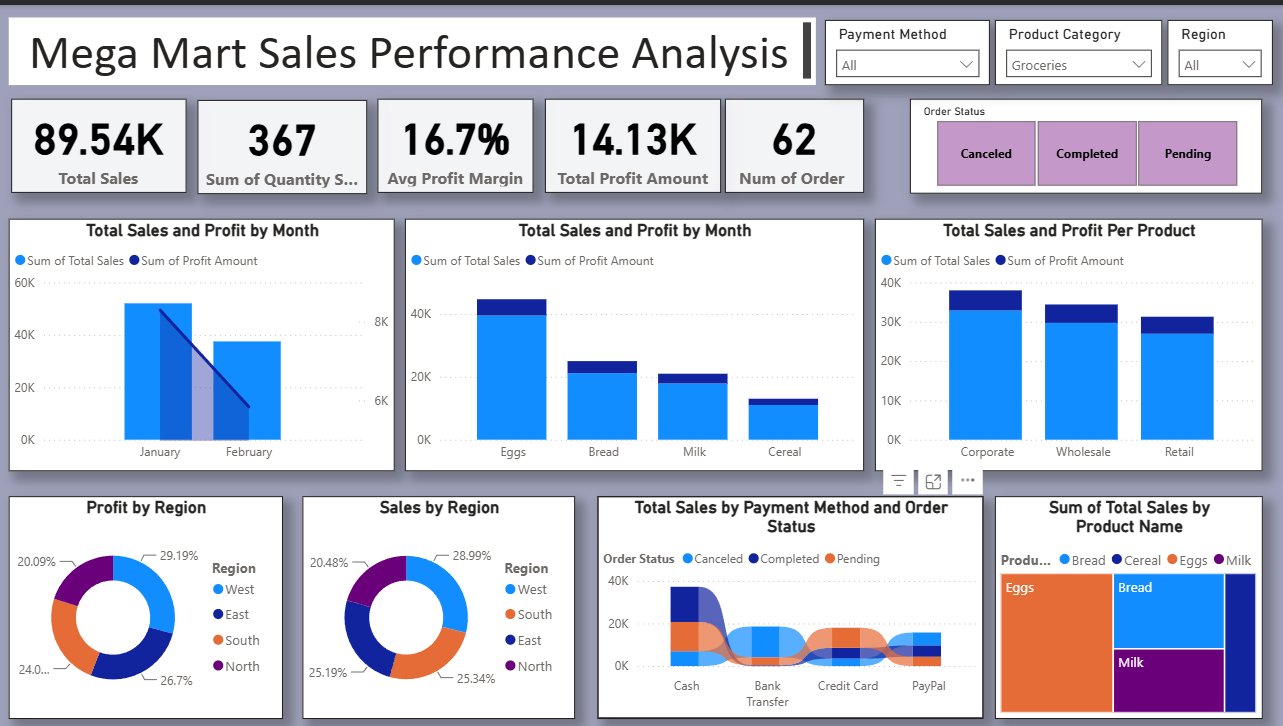

The dashboard page shown, as its layout file describes it:
{"tool":"powerbi","page":{"name":"Page 1","canvas":[1280,720],"ordinal":0},"visuals":[{"type":"textbox","box":[8.7,12.4,803.6,67.2],"z":0},{"type":"card","fields":{"Values":["Sum(Sales.Total Sales)"]},"box":[10.7,93.8,174.2,93.3],"z":1000},{"type":"card","fields":{"Values":["Sum(Sales.Quantity Sold)"]},"box":[196,95,169.2,93.3],"z":2000},{"type":"card","fields":{"Values":["Sales.Avg Profit Margin"]},"box":[375.2,93.8,155.5,93.3],"z":3000},{"type":"card","fields":{"Values":["Sum(Sales.Profit Amount)"]},"box":[541.9,93.8,175.4,93.3],"z":4000},{"type":"card","fields":{"Values":["CountNonNull(Sales.Order ID)"]},"box":[721,93.8,138.1,93.3],"z":5000},{"type":"lineClusteredColumnComboChart","title":" Total Sales and Profit by Month","fields":{"Category":["Sales.Order Date.Variation.Date Hierarchy.Month"],"Y":["Sum(Sales.Total Sales)"],"Y2":["Sum(Sales.Profit Amount)"]},"box":[8.7,212.7,384.4,251.3],"z":6000},{"type":"columnChart","title":" Total Sales and Profit by Month","fields":{"Category":["Sales.Product Name"],"Y":["Sum(Sales.Total Sales)","Sum(Sales.Profit Amount)"]},"box":[403,212.7,456.5,251.3],"z":7000},{"type":"donutChart","title":"Profit by Region","fields":{"Category":["Sales.Region"],"Y":["Sum(Sales.Profit Amount)"]},"box":[8.7,488.9,272.4,221.4],"z":8000},{"type":"donutChart","title":" Sales by Region","fields":{"Category":["Sales.Region"],"Y":["Sum(Sales.Total Sales)"]},"box":[301,488.9,271.2,221.4],"z":9000},{"type":"columnChart","title":" Total Sales and Profit Per Product","fields":{"Category":["Sales.Customer Segment"],"Y":["Sum(Sales.Total Sales)","Sum(Sales.Profit Amount)"]},"box":[870.8,212.7,385.6,251.3],"z":10000},{"type":"slicer","fields":{"Values":["Sales.Order Status"]},"box":[905.6,93.3,350.8,94.5],"z":11000},{"type":"ribbonChart","title":"Total Sales by Payment Method and Order Status","fields":{"Category":["Sales.Payment Method"],"Y":["Sum(Sales.Total Sales)"],"Series":["Sales.Order Status"]},"box":[594.6,488.9,384.4,221.4],"z":12000},{"type":"slicer","fields":{"Values":["Sales.Payment Method"]},"box":[821,14.9,164.2,64.7],"z":13000},{"type":"slicer","fields":{"Values":["Sales.Product Category"]},"box":[990.2,14.9,166.7,64.7],"z":14000},{"type":"slicer","fields":{"Values":["Sales.Region"]},"box":[1161.9,14.9,104.5,64.7],"z":15000},{"type":"treemap","fields":{"Values":["Sum(Sales.Total Sales)"],"Details":["Sales.Product Name"]},"box":[990.2,488.9,266.2,221.4],"z":16000}]}

Visuals, with their boxes in screenshot pixels (x1, y1, x2, y2), scaled from the page's 1280x720 canvas onto the 1283x726 screenshot:
textbox: select_region(9, 13, 814, 80)
card - Sum(Sales.Total Sales): select_region(11, 95, 185, 189)
card - Sum(Sales.Quantity Sold): select_region(196, 96, 366, 190)
card - Sales.Avg Profit Margin: select_region(376, 95, 532, 189)
card - Sum(Sales.Profit Amount): select_region(543, 95, 719, 189)
card - CountNonNull(Sales.Order ID): select_region(723, 95, 861, 189)
" Total Sales and Profit by Month" lineClusteredColumnComboChart: select_region(9, 214, 394, 468)
" Total Sales and Profit by Month" columnChart: select_region(404, 214, 862, 468)
"Profit by Region" donutChart: select_region(9, 493, 282, 716)
" Sales by Region" donutChart: select_region(302, 493, 574, 716)
" Total Sales and Profit Per Product" columnChart: select_region(873, 214, 1259, 468)
slicer - Sales.Order Status: select_region(908, 94, 1259, 189)
"Total Sales by Payment Method and Order Status" ribbonChart: select_region(596, 493, 981, 716)
slicer - Sales.Payment Method: select_region(823, 15, 988, 80)
slicer - Sales.Product Category: select_region(993, 15, 1160, 80)
slicer - Sales.Region: select_region(1165, 15, 1269, 80)
treemap - Sum(Sales.Total Sales) x Sales.Product Name: select_region(993, 493, 1259, 716)
